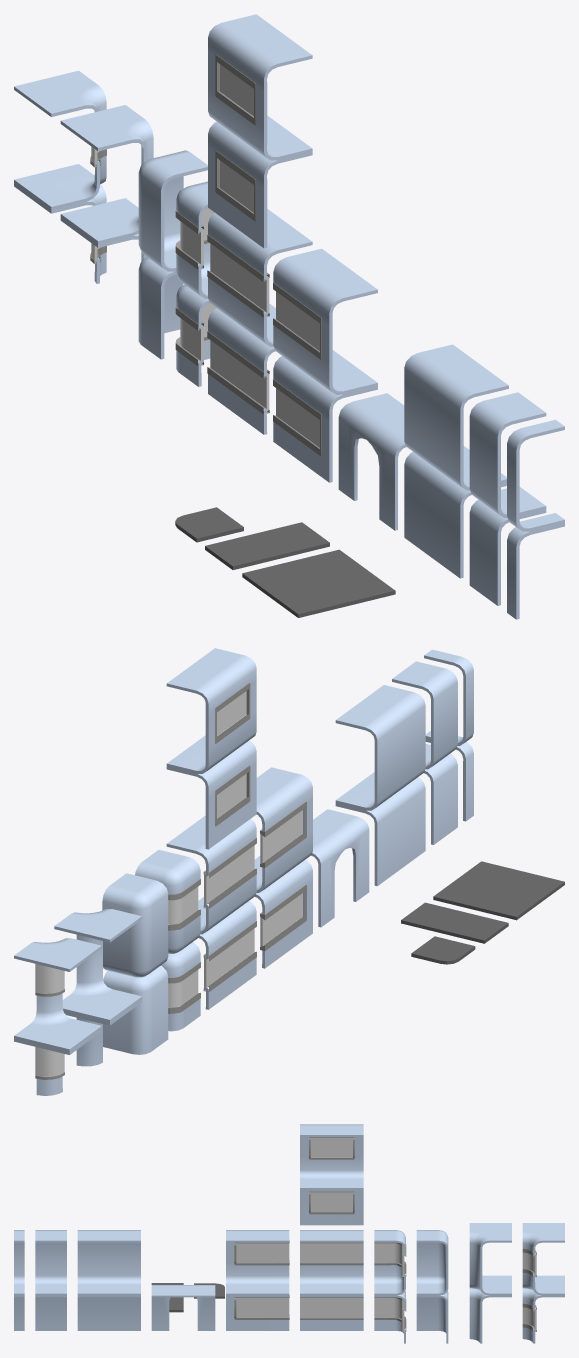
File: Modular Asset Kit Arctic Scifi Base_1.fbx
3 renders of one model, top to bottom at view 1: azimuth 30°, elevation 25°; view 2: azimuth 150°, elevation 25°; view 3: azimuth 270°, elevation 25°, orthographic. The views are drawn at different scales.
Visible parts, largest first — view 1: SquareWindowTop, EndingWindowTop, FullWallTop, FullWindowTop, FullFloor, Doorway, CornerWindowOutTop.001, FullWall, CornerWallOutTop, SquareWindow, HalfWallTop, EndingWindow (+17 smaller); view 2: FullWallTop, SquareWindowTop, CornerWallTop, CornerWindowOutTop.001, EndingWindowTop, CornerWallOutTop, FullWindowTop, FullFloor, FullWall, Doorway, CornerWall, SquareWindow (+18 smaller); view 3: FullWallTop, FullWindowTop, SquareWindowTop, EndingWindowTop, FullWall, FullWindow, SquareWindow, EndingWindow, CornerWallTop, CornerWallOutTop, HalfWallTop, Doorway (+13 smaller).
Boxes of the visible parts, box(x1,y1,x2,y2) form: SquareWindowTop: box(208, 14, 312, 160); EndingWindowTop: box(273, 248, 377, 394); FullWallTop: box(404, 344, 508, 490); FullWindowTop: box(208, 209, 312, 346); FullFloor: box(242, 549, 395, 617); Doorway: box(338, 393, 405, 530); CornerWindowOutTop.001: box(14, 70, 106, 210); FullWall: box(404, 452, 506, 578); CornerWallOutTop: box(60, 105, 153, 244); SquareWindow: box(208, 121, 312, 248); HalfWallTop: box(469, 392, 546, 517); EndingWindow: box(273, 356, 377, 482); FullWallTop: box(335, 685, 425, 810); SquareWindowTop: box(166, 648, 256, 773); CornerWallTop: box(102, 873, 168, 977); CornerWindowOutTop.001: box(14, 938, 101, 1052); EndingWindowTop: box(254, 767, 312, 892); CornerWallOutTop: box(54, 909, 141, 1022); FullWindowTop: box(166, 815, 256, 934); FullFloor: box(433, 861, 564, 920); FullWall: box(335, 777, 425, 886); Doorway: box(311, 809, 369, 927); CornerWall: box(103, 965, 168, 1054); SquareWindow: box(166, 740, 256, 849); FullWallTop: box(77, 1230, 140, 1295); FullWindowTop: box(300, 1230, 363, 1295); SquareWindowTop: box(300, 1124, 363, 1189); EndingWindowTop: box(226, 1230, 289, 1295); FullWall: box(77, 1295, 140, 1330); FullWindow: box(300, 1295, 363, 1330); SquareWindow: box(300, 1190, 363, 1225); EndingWindow: box(226, 1295, 289, 1330); CornerWallTop: box(416, 1230, 448, 1295); CornerWallOutTop: box(469, 1223, 511, 1295); HalfWallTop: box(35, 1230, 66, 1295); Doorway: box(151, 1285, 215, 1330).
Bounding box in the file's own units: 650 × 1085 × 2600.
